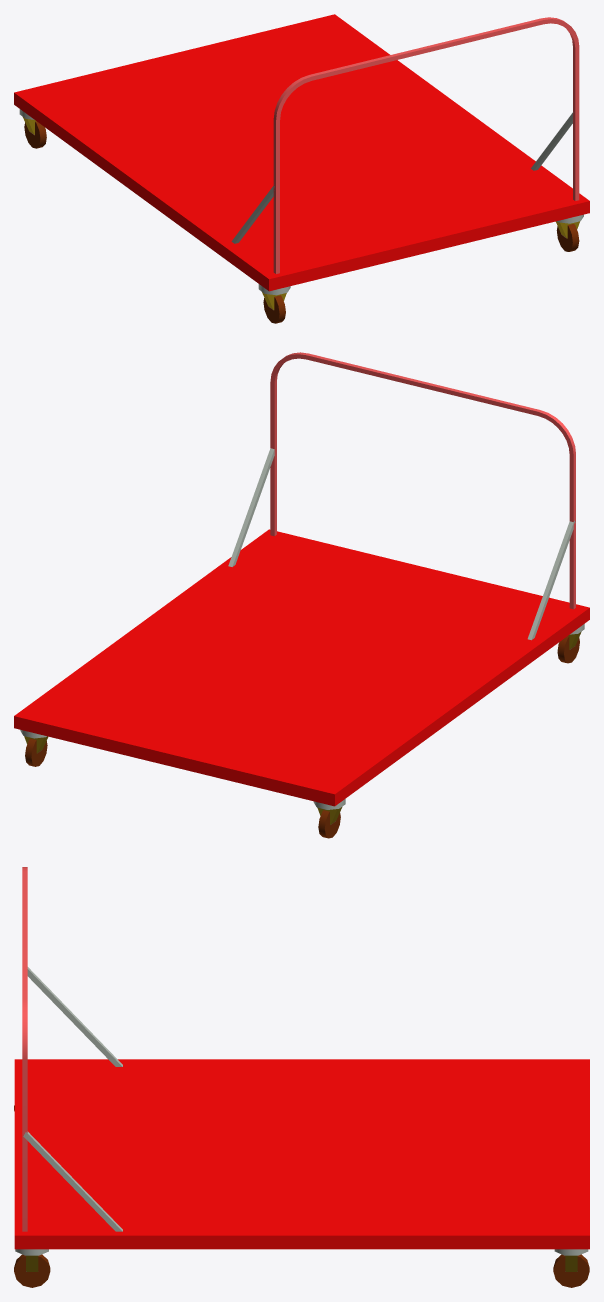
Rendered from Item_transport.FBX.
The picture shows the model from 3 angles, top to bottom: view 1: azimuth 30°, elevation 25°; view 2: azimuth 150°, elevation 25°; view 3: azimuth 270°, elevation 25°; orthographic projection. The views are drawn at different scales.
Parts seen in each view (by area): view 1: Item_transport; view 2: Item_transport; view 3: Item_transport.
Part boxes in pixels (x1=…): Item_transport: x1=14, y1=14, x2=589, y2=323; Item_transport: x1=14, y1=352, x2=589, y2=838; Item_transport: x1=14, y1=867, x2=589, y2=1287.
Bounding box in the file's own units: 10.95 × 7.84 × 15.09.
